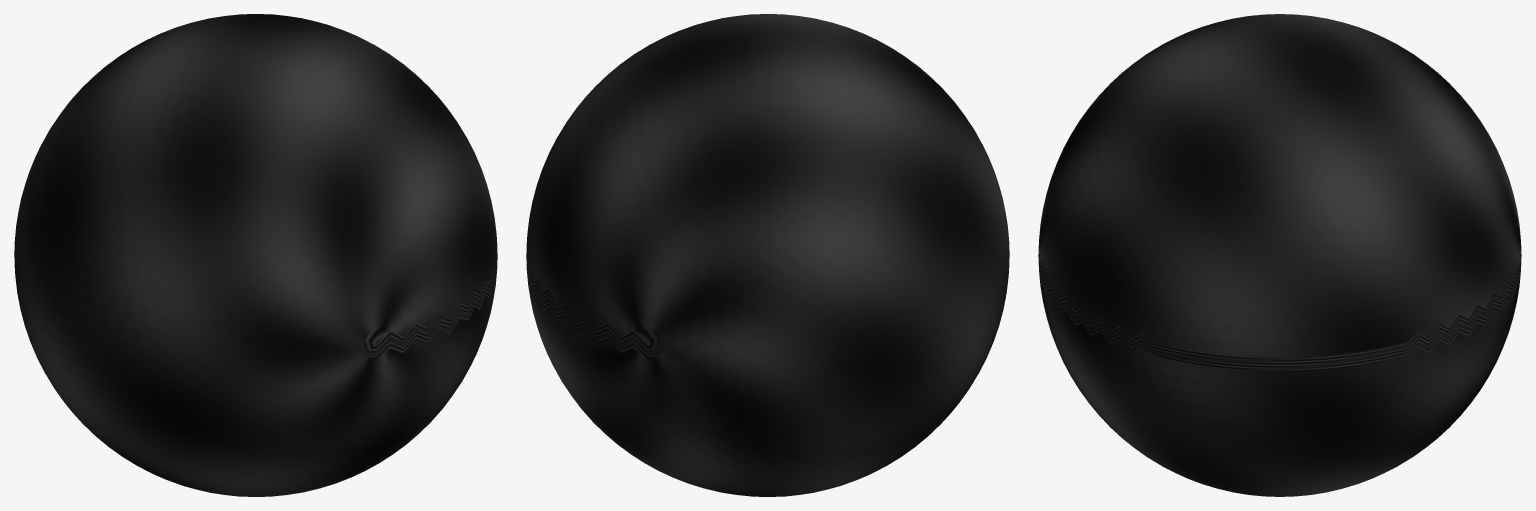
Rendered from sphere-dark.glb.
3 renders of one model, left to right at view 1: azimuth 30°, elevation 25°; view 2: azimuth 150°, elevation 25°; view 3: azimuth 270°, elevation 25°, orthographic.
Visible parts, largest first — view 1: world; view 2: world; view 3: world.
Boxes of the visible parts, left/top/right/bottom form: world: left=14, top=14, right=497, bottom=496; world: left=526, top=14, right=1009, bottom=496; world: left=1038, top=14, right=1521, bottom=496.
Bounding box in the file's own units: 1.2 × 1.2 × 1.2.
Materials: 1 (1 with a texture image).
